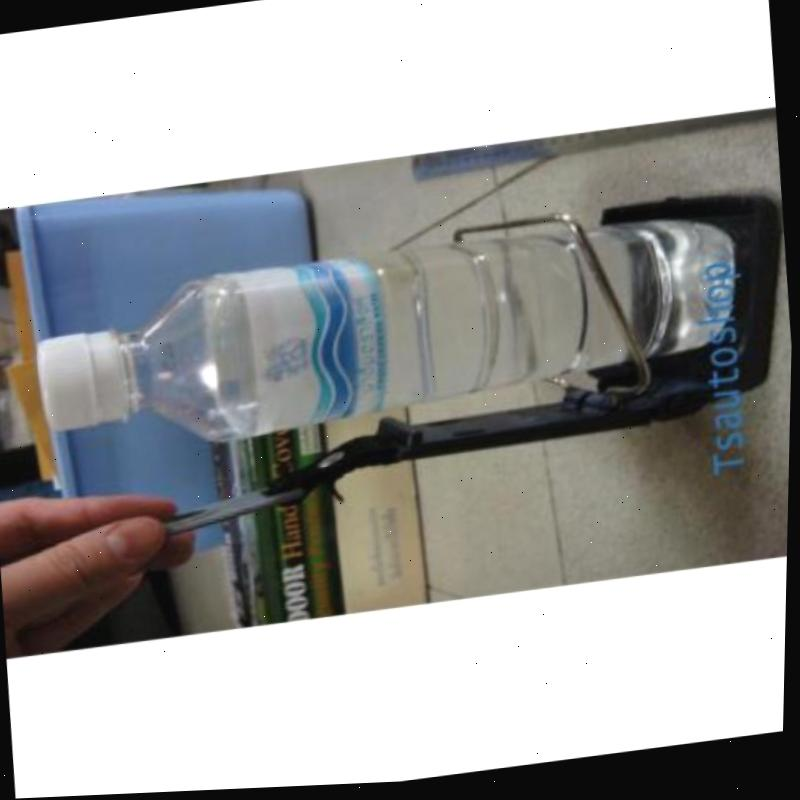botella: (35, 221, 742, 468)
